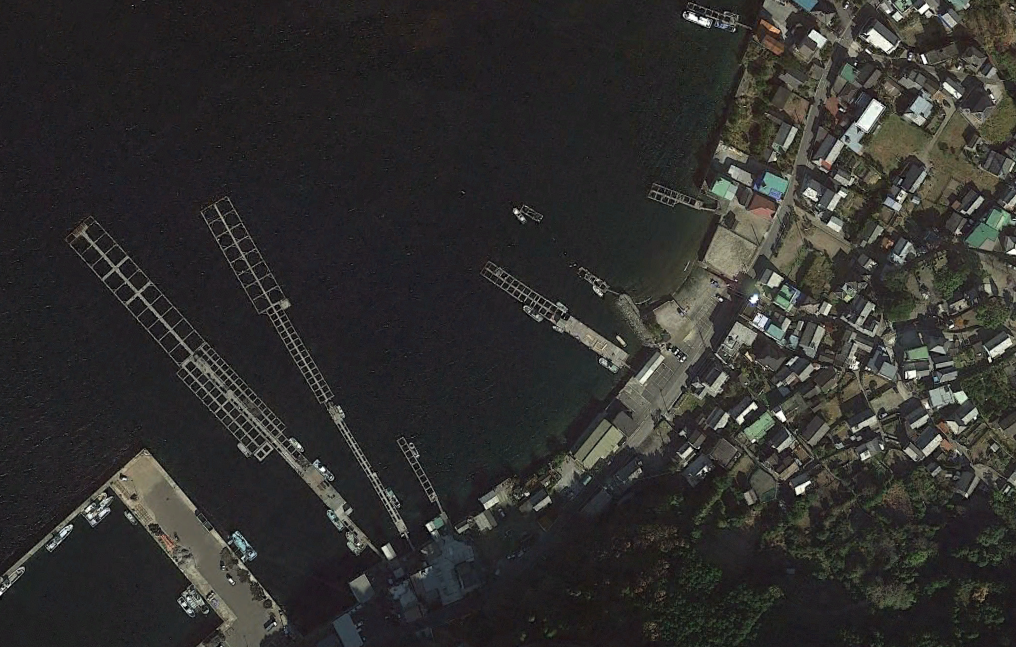house: (562, 423, 630, 470), (969, 216, 1010, 260), (848, 91, 886, 130), (739, 408, 779, 444), (797, 410, 834, 448), (718, 318, 759, 352), (908, 423, 947, 457), (799, 178, 840, 209), (898, 340, 932, 377), (981, 327, 1015, 362), (979, 146, 1016, 178), (754, 17, 786, 53), (771, 84, 808, 115), (749, 189, 786, 220), (813, 131, 843, 169), (769, 120, 803, 153), (697, 366, 734, 396), (753, 169, 786, 201), (523, 484, 555, 517), (861, 20, 894, 51), (708, 435, 740, 466), (771, 283, 803, 313), (702, 402, 735, 431), (794, 28, 824, 59), (710, 171, 740, 202), (877, 189, 907, 220), (927, 377, 957, 408), (898, 159, 927, 191), (857, 220, 886, 250), (957, 187, 984, 219), (900, 399, 930, 427), (849, 295, 874, 328), (907, 96, 935, 125), (874, 355, 901, 384), (467, 512, 501, 533), (759, 267, 786, 292), (789, 472, 815, 496), (474, 490, 503, 511), (839, 60, 863, 84), (744, 487, 766, 510), (966, 130, 989, 152), (822, 214, 845, 233), (944, 7, 960, 28)
ship: (77, 489, 114, 526), (42, 521, 77, 553), (310, 455, 337, 484), (321, 508, 346, 534), (172, 594, 197, 620), (682, 9, 715, 28), (510, 206, 532, 226), (284, 435, 306, 452), (235, 443, 253, 460), (410, 439, 423, 460)
